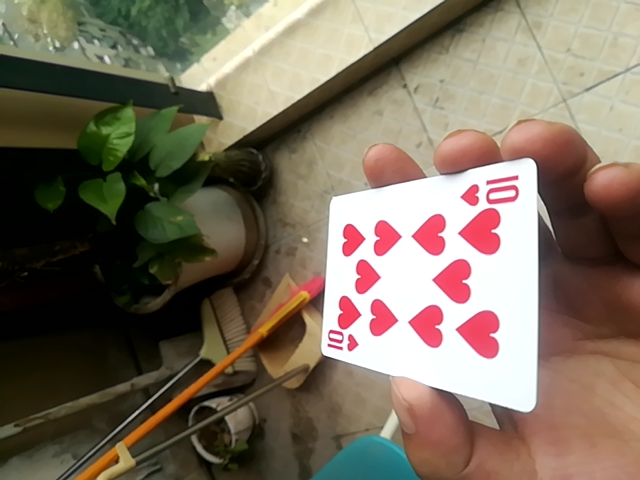hx 10: (313, 159, 537, 410)
